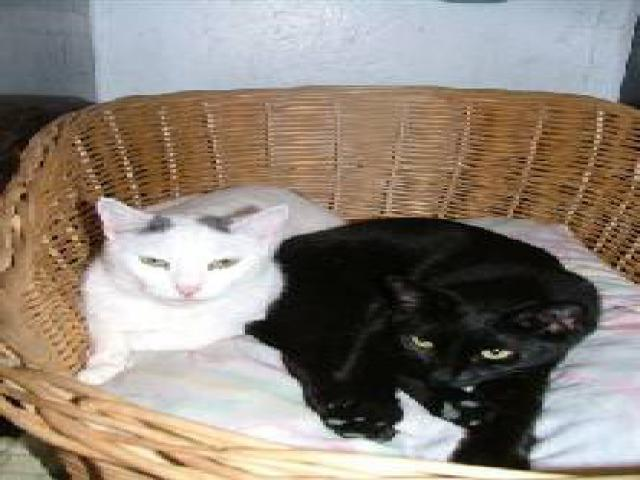cat: (149, 193, 601, 463)
